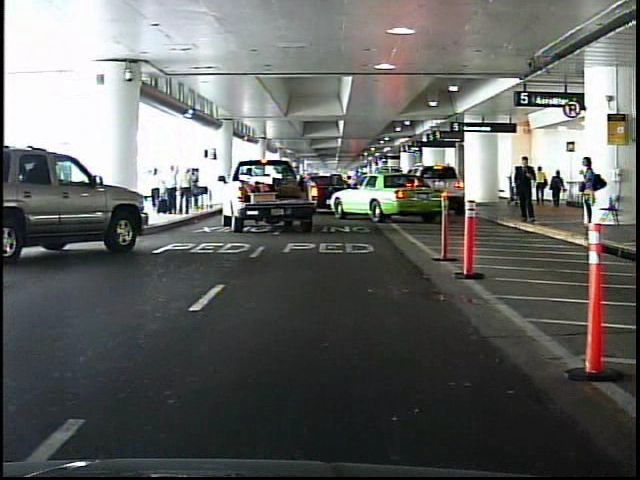person: (577, 154, 603, 233), (511, 152, 537, 226), (547, 169, 566, 210), (535, 166, 547, 206)
